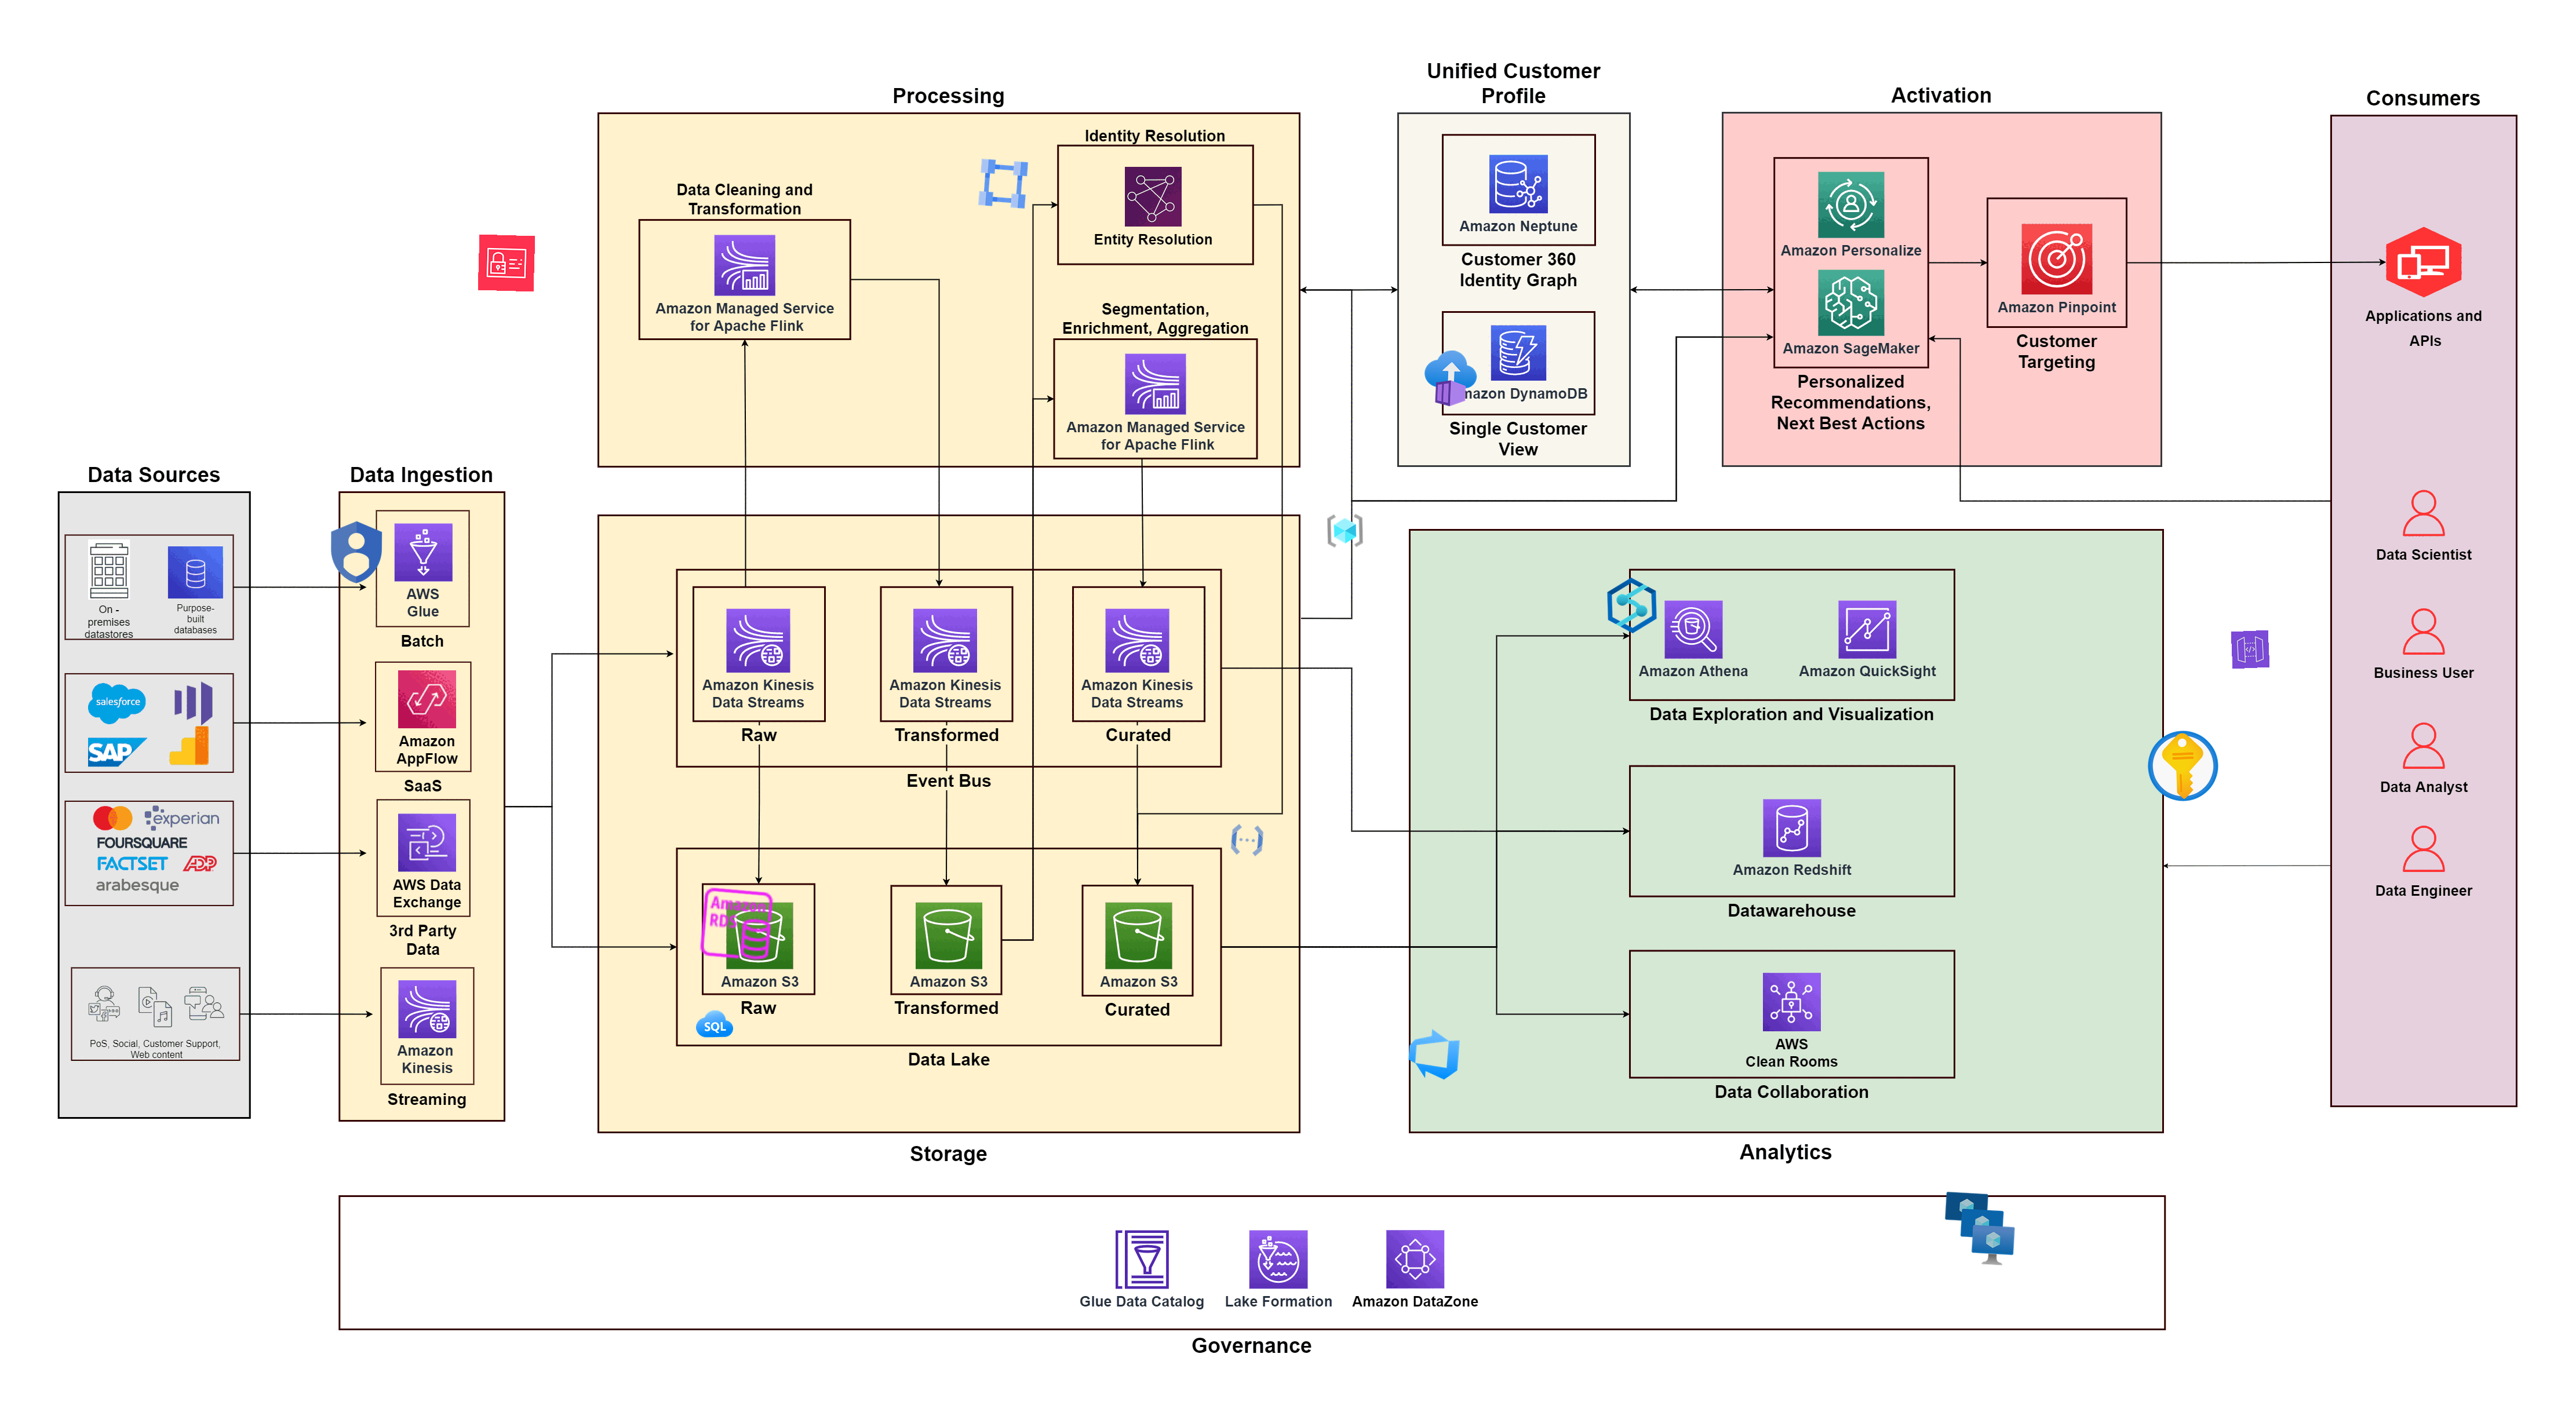aws_amazon_api_gateway: (2231, 630, 2271, 670)
aws_aurora_amazon_rds_instance: (696, 884, 778, 964)
aws_identity_and_access_management: (478, 234, 535, 291)
azure_container_instances: (1421, 349, 1479, 408)
azure_devops: (1404, 1024, 1463, 1085)
azure_key_vaults: (2143, 727, 2222, 804)
azure_resource_groups: (1325, 511, 1364, 549)
azure_sql: (696, 1004, 734, 1043)
azure_synapse_analytics: (1603, 577, 1660, 635)
azure_vm_scale_sets: (1939, 1188, 2018, 1266)
gcp_cloud_functions: (1226, 820, 1268, 860)
gcp_identity_and_access_management: (319, 514, 394, 589)
gcp_virtual_private_cloud: (973, 153, 1032, 214)
